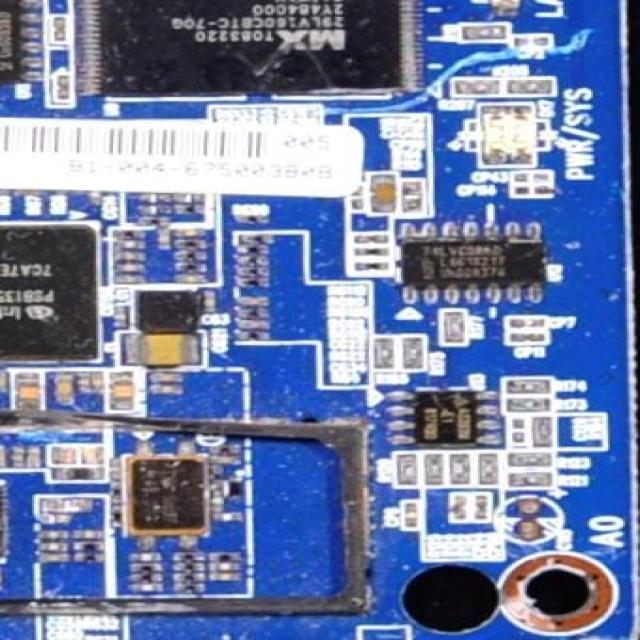IC: (85, 0, 412, 87), (0, 224, 105, 355), (404, 223, 556, 304), (371, 387, 492, 447), (0, 0, 62, 89), (0, 477, 9, 559)
capacitor: (108, 371, 140, 414), (15, 371, 48, 410), (369, 173, 396, 215), (49, 443, 82, 465), (450, 493, 472, 523), (79, 443, 106, 465), (399, 501, 420, 529), (474, 492, 494, 521), (508, 316, 548, 330), (354, 230, 385, 246), (126, 552, 166, 562), (172, 272, 210, 282), (173, 228, 210, 238), (233, 320, 270, 330), (207, 562, 243, 572), (113, 262, 146, 272), (236, 296, 272, 305), (113, 252, 148, 261), (113, 274, 148, 283), (126, 584, 165, 592), (72, 530, 105, 539), (38, 553, 70, 562), (207, 572, 243, 580), (113, 240, 147, 248), (36, 531, 69, 539), (38, 542, 70, 550), (0, 568, 4, 590)
resistor: (374, 336, 398, 373), (424, 451, 450, 485), (456, 25, 509, 41), (504, 450, 553, 467), (476, 454, 502, 486), (452, 80, 502, 96), (401, 337, 427, 366), (504, 472, 554, 487), (444, 311, 465, 345), (531, 414, 554, 445), (448, 454, 472, 483), (397, 455, 418, 487), (508, 78, 553, 92), (506, 398, 551, 412), (506, 378, 548, 392), (352, 258, 393, 272), (234, 276, 272, 288), (239, 233, 276, 245), (236, 254, 270, 266), (171, 551, 206, 562), (236, 308, 274, 318), (172, 572, 206, 583), (72, 552, 105, 563), (173, 240, 209, 250), (173, 250, 209, 260), (171, 262, 209, 271), (236, 332, 274, 341), (233, 245, 270, 254), (207, 552, 240, 562), (128, 564, 163, 573), (171, 585, 206, 594), (128, 573, 162, 582), (234, 268, 272, 276), (113, 230, 147, 238), (171, 562, 205, 570), (73, 542, 105, 550), (354, 251, 388, 258)
